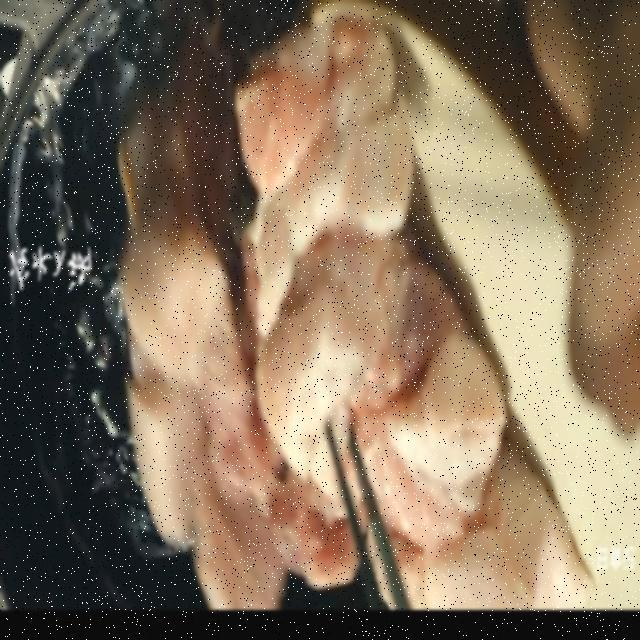pork: (134, 23, 483, 618)
